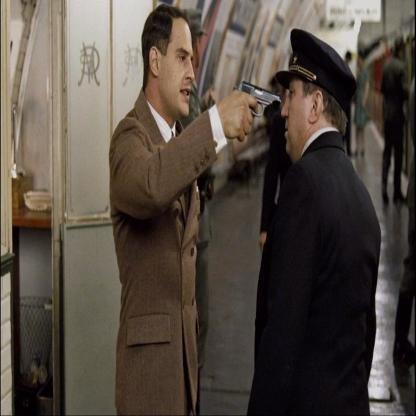gun: (239, 60, 288, 135)
